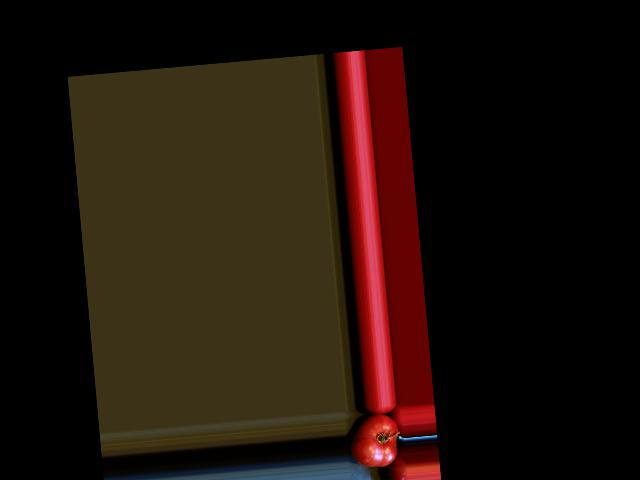tomato: (347, 412, 400, 469)
